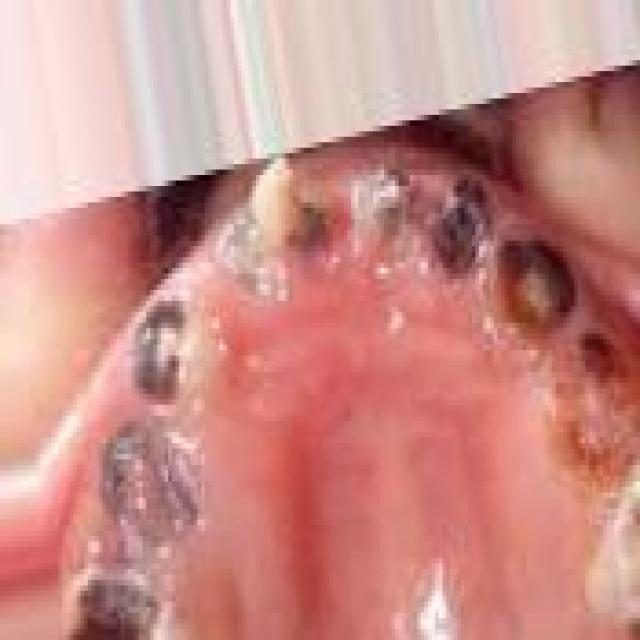caries: (94, 413, 210, 562), (230, 163, 326, 304), (489, 208, 577, 350), (128, 289, 233, 404), (416, 158, 496, 295), (562, 335, 638, 472), (344, 156, 420, 276), (72, 562, 186, 640)
